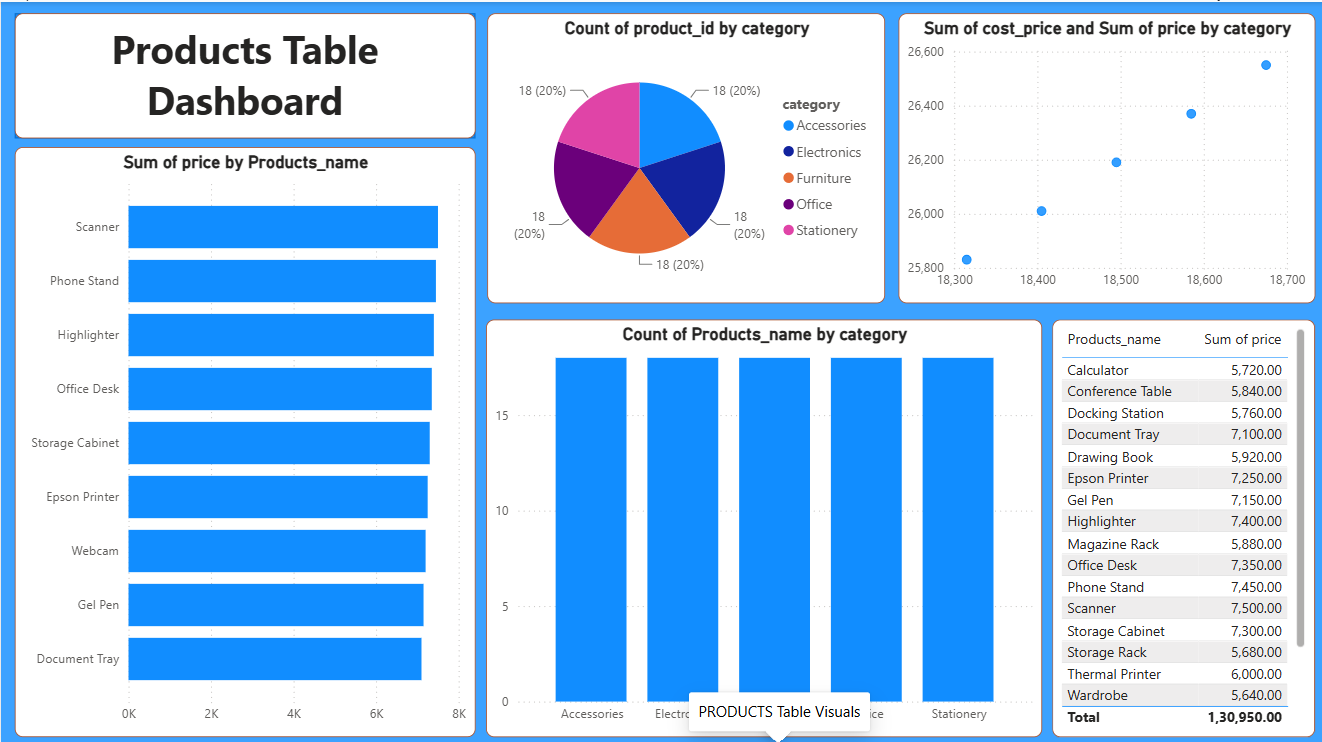

The page's visual inventory and layout, read from the dashboard file:
{"tool":"powerbi","page":{"name":"PRODUCTS Table Visuals","canvas":[1280,720],"ordinal":3},"visuals":[{"type":"pieChart","fields":{"Category":["products.category"],"Y":["CountNonNull(products.product_id)"]},"box":[469.3,11,384.2,279.9],"z":0},{"type":"clusteredBarChart","fields":{"Category":["products.product_name"],"Y":["Sum(products.price)"]},"box":[13.7,140,444.6,569.5],"z":1000},{"type":"scatterChart","fields":{"Y":["Sum(products.price)"],"Category":["products.category"],"X":["Sum(products.cost_price)"]},"box":[865.9,11,402.1,279.9],"z":2000},{"type":"clusteredColumnChart","fields":{"Category":["products.category"],"Y":["CountNonNull(products.product_id)"]},"box":[467.9,306,561.2,403.4],"z":3000},{"type":"tableEx","fields":{"Values":["products.product_name","Sum(products.price)"]},"box":[1041.5,306,226.4,403.4],"z":4000},{"type":"shape","box":[13.7,11,444.6,120.8],"z":5000},{"type":"textbox","box":[13.7,11,444.6,120.8],"z":6000}]}

Visuals, with their boxes in screenshot pixels (x1, y1, x2, y2), scaled from the page's 1280x720 canvas onto the 1322x742 screenshot:
pieChart - products.category x CountNonNull(products.product_id): (x1=485, y1=11, x2=882, y2=300)
clusteredBarChart - products.product_name x Sum(products.price): (x1=14, y1=144, x2=473, y2=731)
scatterChart - Sum(products.price) x products.category: (x1=894, y1=11, x2=1310, y2=300)
clusteredColumnChart - products.category x CountNonNull(products.product_id): (x1=483, y1=315, x2=1063, y2=731)
tableEx - products.product_name x Sum(products.price): (x1=1076, y1=315, x2=1310, y2=731)
shape: (x1=14, y1=11, x2=473, y2=136)
textbox: (x1=14, y1=11, x2=473, y2=136)
